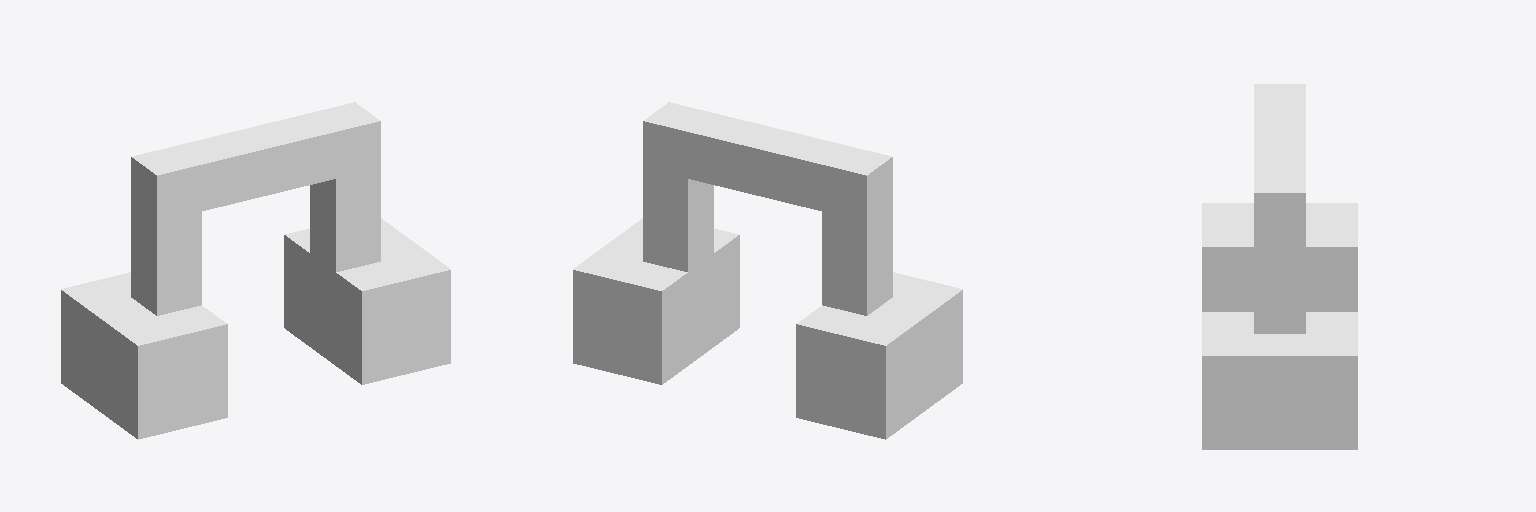
Rendered from toy-store-7-toy3.obj.
3 renders of one model, left to right at view 1: azimuth 30°, elevation 25°; view 2: azimuth 150°, elevation 25°; view 3: azimuth 270°, elevation 25°, orthographic.
Visible parts, largest first — view 1: toy3; view 2: toy3; view 3: toy3.
Boxes of the visible parts, <box> form: toy3: <box>61,102,450,439</box>; toy3: <box>573,102,962,439</box>; toy3: <box>1202,84,1357,449</box>.
Size of the model in its own units: 0.7 by 0.5 by 0.3.